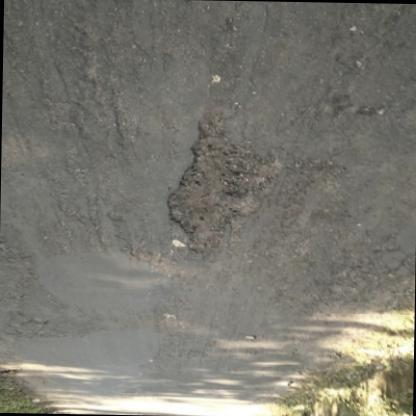pothole: (166, 118, 290, 258)
